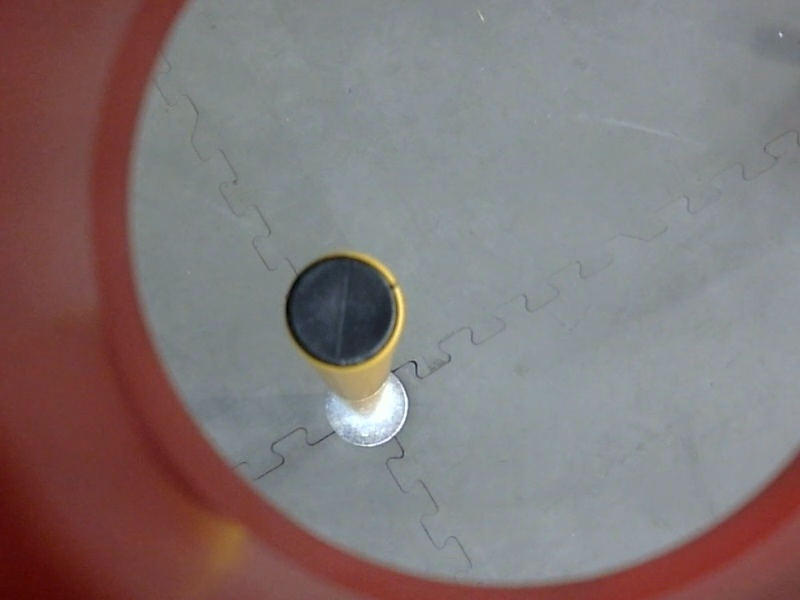tip: (279, 245, 408, 379)
